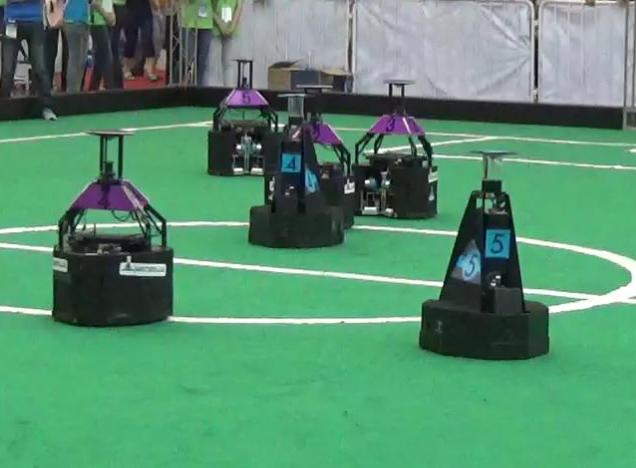robot: (413, 144, 556, 364), (47, 123, 178, 327), (242, 89, 351, 251), (349, 75, 444, 221)
